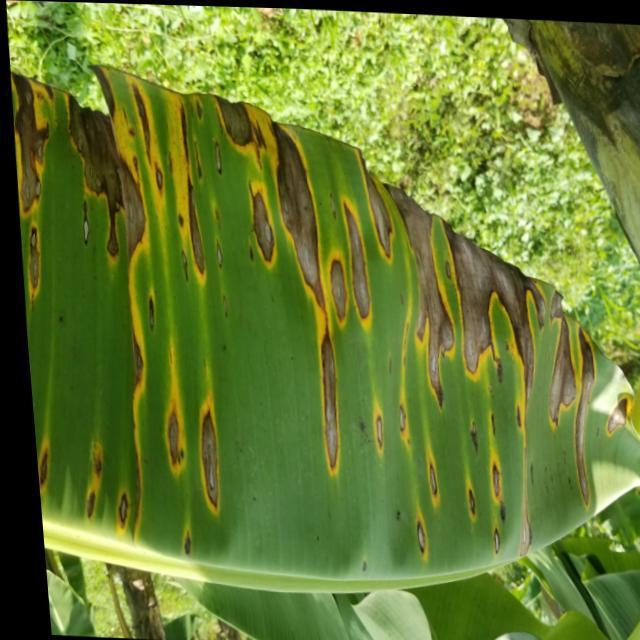Early_rust: (6, 48, 620, 569)
